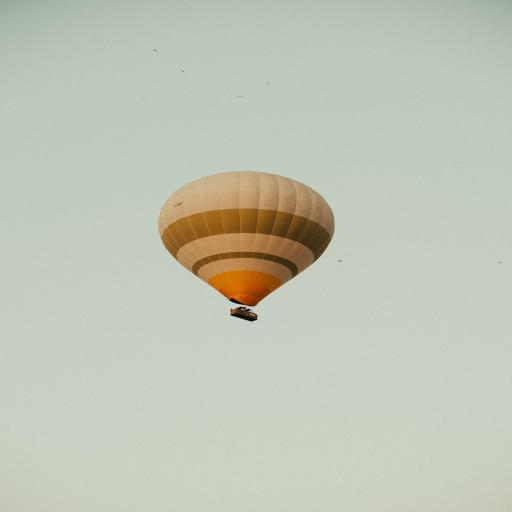hot air ballon: (157, 171, 335, 322)
